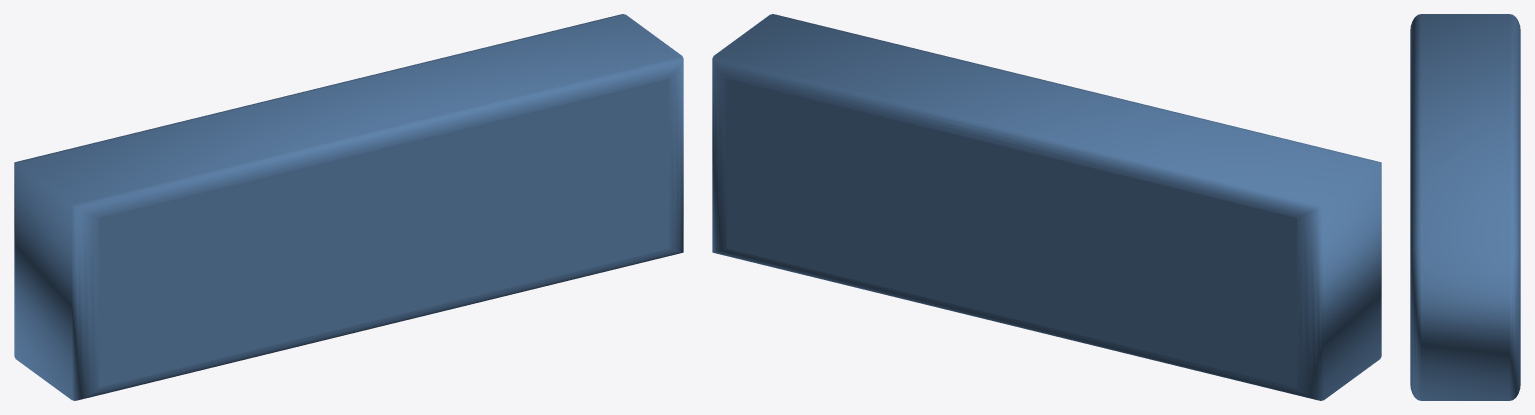
The model's file is minus.fbx.
The picture shows the model from 3 angles, left to right: view 1: azimuth 30°, elevation 25°; view 2: azimuth 150°, elevation 25°; view 3: azimuth 270°, elevation 25°; orthographic projection. The views are drawn at different scales.
Parts seen in each view (by area): view 1: Add.001; view 2: Add.001; view 3: Add.001.
Part boxes in pixels (bbox=[...]): Add.001: bbox=[14, 14, 683, 400]; Add.001: bbox=[712, 14, 1381, 400]; Add.001: bbox=[1410, 14, 1520, 400].
Bounding box in the file's own units: 200 × 61.29 × 40.06.
